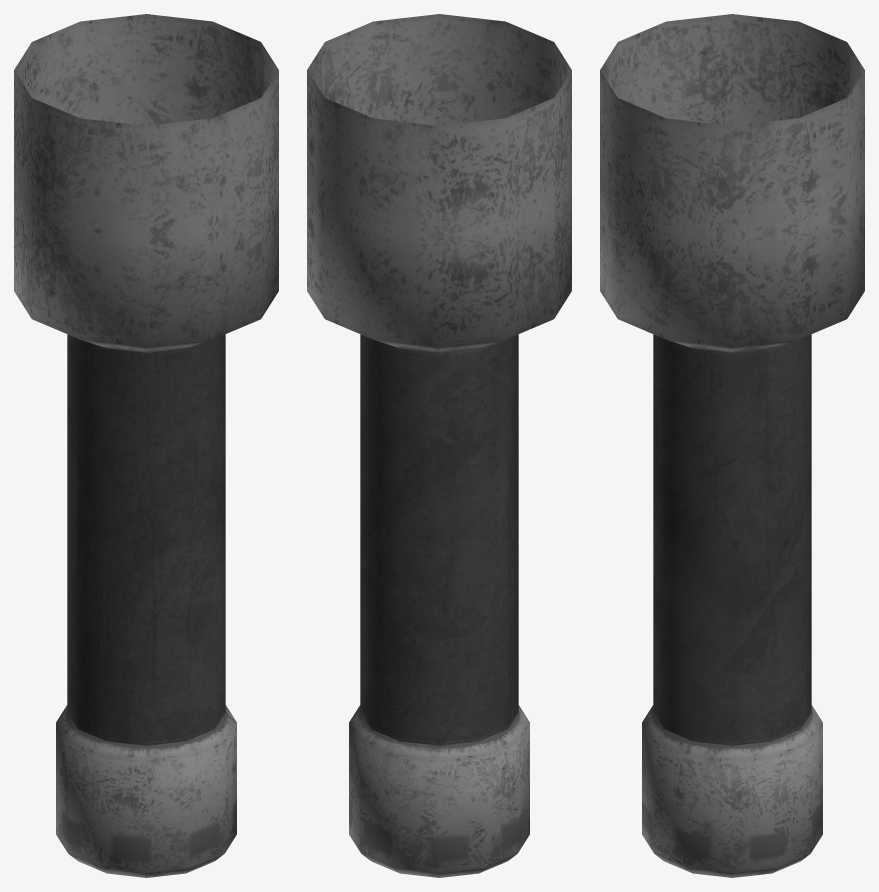
The model's file is Food Tube.fbx.
The picture shows the model from 3 angles, left to right: view 1: azimuth 30°, elevation 25°; view 2: azimuth 150°, elevation 25°; view 3: azimuth 270°, elevation 25°; orthographic projection.
Visible parts, largest first — view 1: Base, Tube, End; view 2: Base, Tube, End; view 3: Base, Tube, End.
Boxes of the visible parts, <box> form: Base: <box>14,14,278,352</box>; Tube: <box>67,334,225,745</box>; End: <box>56,705,236,877</box>; Base: <box>307,14,571,352</box>; Tube: <box>360,334,518,745</box>; End: <box>349,705,529,877</box>; Base: <box>600,14,864,352</box>; Tube: <box>653,334,811,745</box>; End: <box>642,705,822,877</box>.
Size of the model in its own units: 0.4111 by 1.33 by 0.4111.
